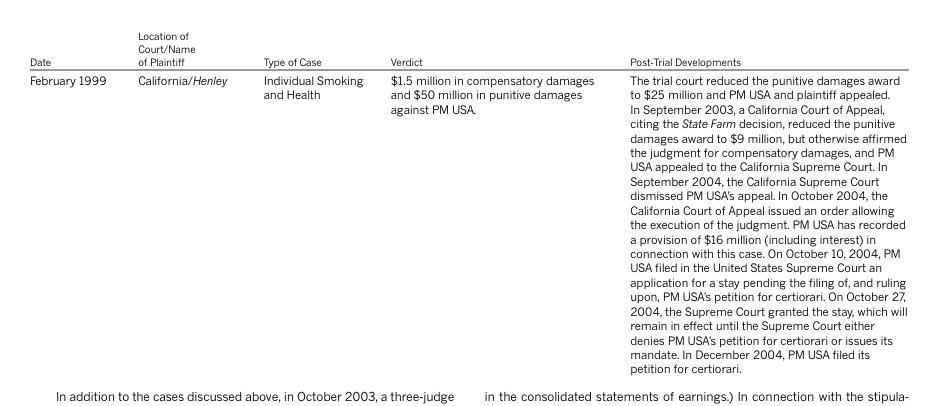table: (28, 28, 906, 374)
table column: (611, 28, 906, 374), (376, 28, 611, 374), (244, 28, 376, 374), (121, 28, 244, 374), (28, 28, 121, 374)
table column header: (28, 28, 906, 69)
table row: (28, 69, 906, 374), (28, 28, 906, 69)
